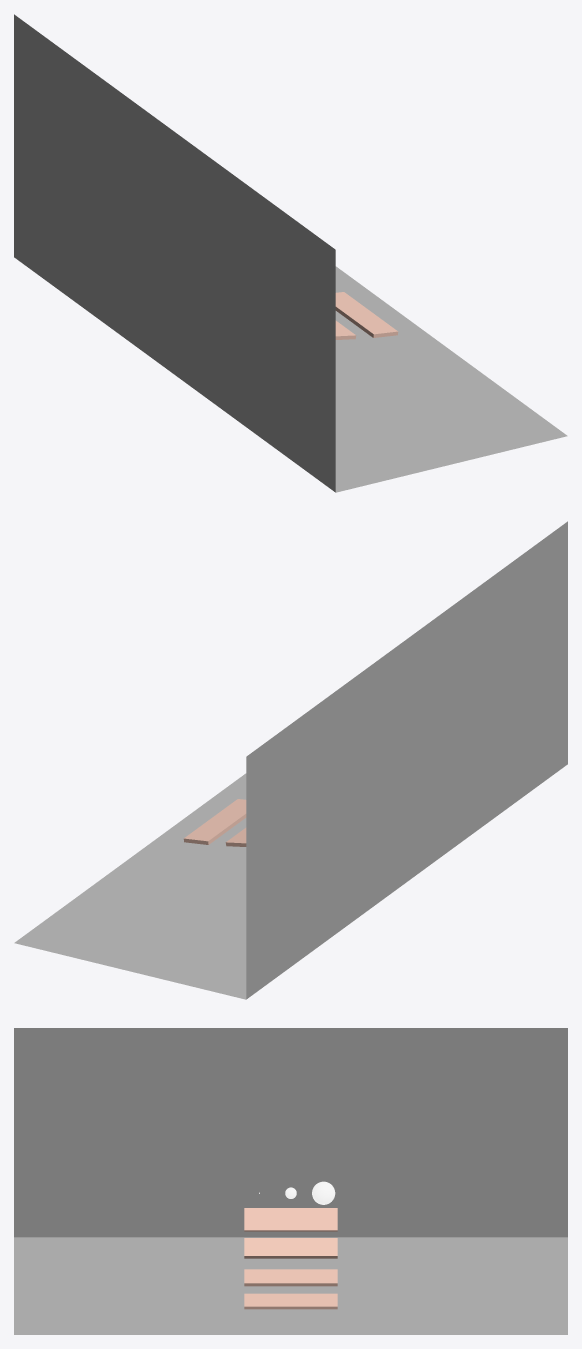
The model's file is veach_mis_extended.glb.
The picture shows the model from 3 angles, top to bottom: view 1: azimuth 30°, elevation 25°; view 2: azimuth 150°, elevation 25°; view 3: azimuth 270°, elevation 25°; orthographic projection. The views are drawn at different scales.
Visible parts, largest first — view 1: 04_Diffuse, 03_Diffuse, 08_SuperRough; view 2: 04_Diffuse, 03_Diffuse, 08_SuperRough; view 3: 04_Diffuse, 03_Diffuse, 00_Smooth, 01_Glossy, 02_Rough, 08_SuperRough, 05_Null.
Boxes of the visible parts, x1,y1,x2,y2 form: 04_Diffuse: [14, 14, 335, 492]; 03_Diffuse: [335, 266, 567, 492]; 08_SuperRough: [335, 292, 398, 337]; 04_Diffuse: [246, 521, 567, 999]; 03_Diffuse: [14, 773, 246, 999]; 08_SuperRough: [183, 799, 246, 844]; 04_Diffuse: [14, 1028, 567, 1237]; 03_Diffuse: [14, 1237, 567, 1334]; 00_Smooth: [244, 1208, 337, 1231]; 01_Glossy: [244, 1238, 337, 1258]; 02_Rough: [244, 1269, 337, 1286]; 08_SuperRough: [244, 1293, 337, 1309]; 05_Null: [312, 1181, 335, 1204].
Size of the model in its own units: 19.8 by 19.8 by 47.52.
